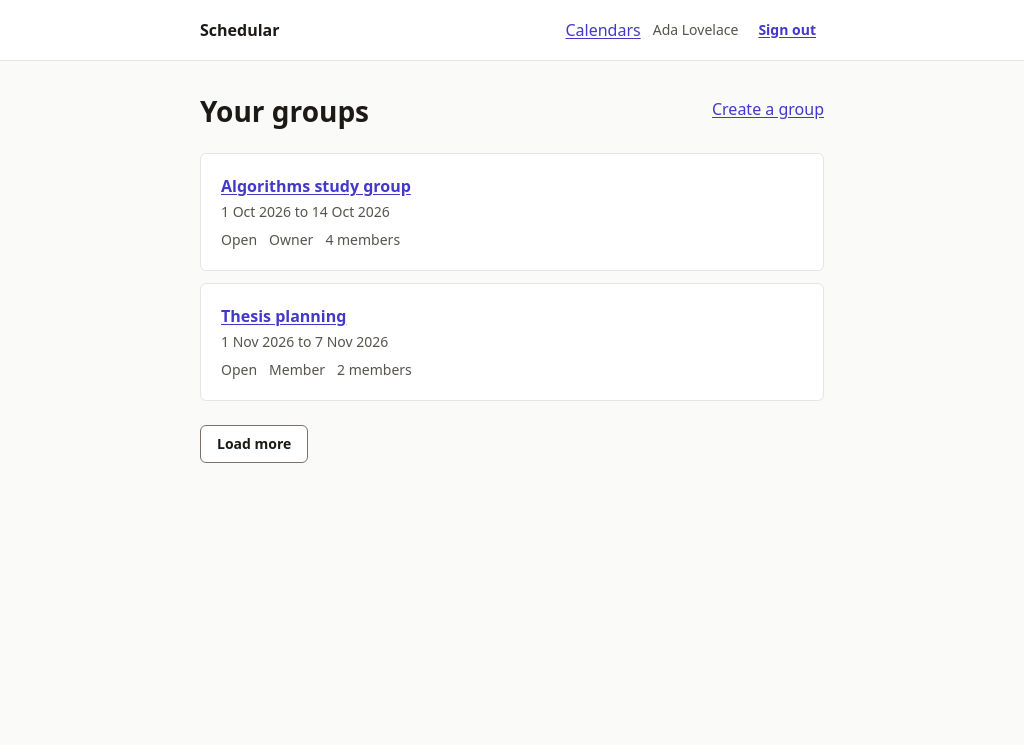
Test: routing › navigates from the groups list to a group's detail page
The image size is (1024, 745).
Click the link "Algorithms study group": {"x": 316, "y": 186} [221, 175, 411, 197]
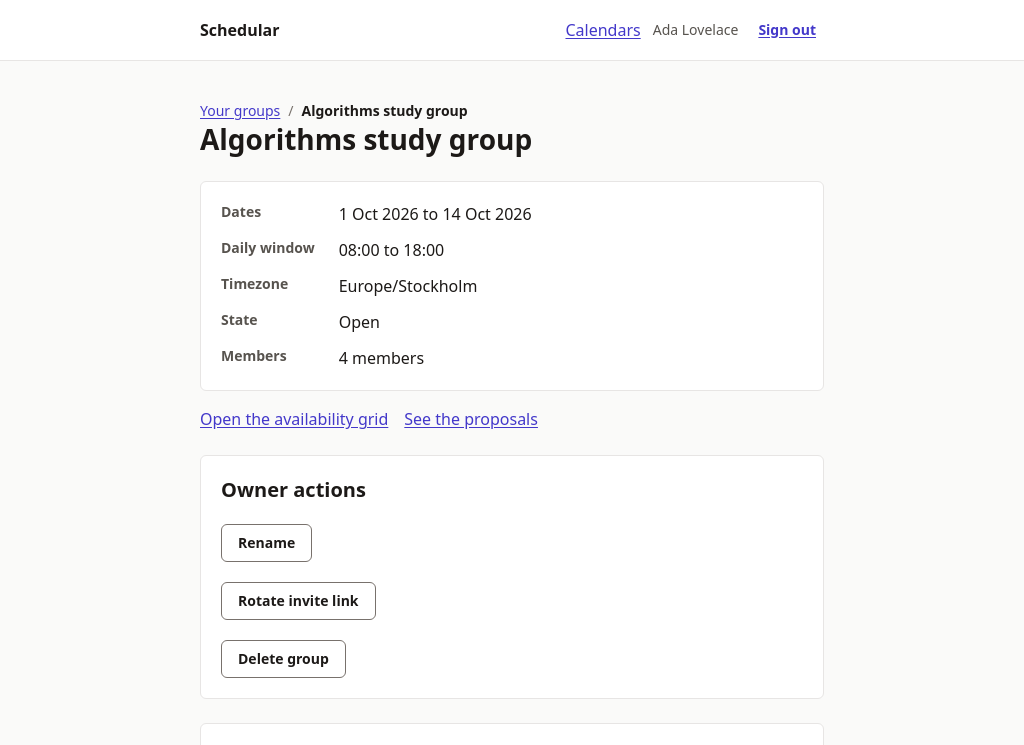
expect the heading "Algorithms study group" is shown: met, box [200, 120, 532, 158]
